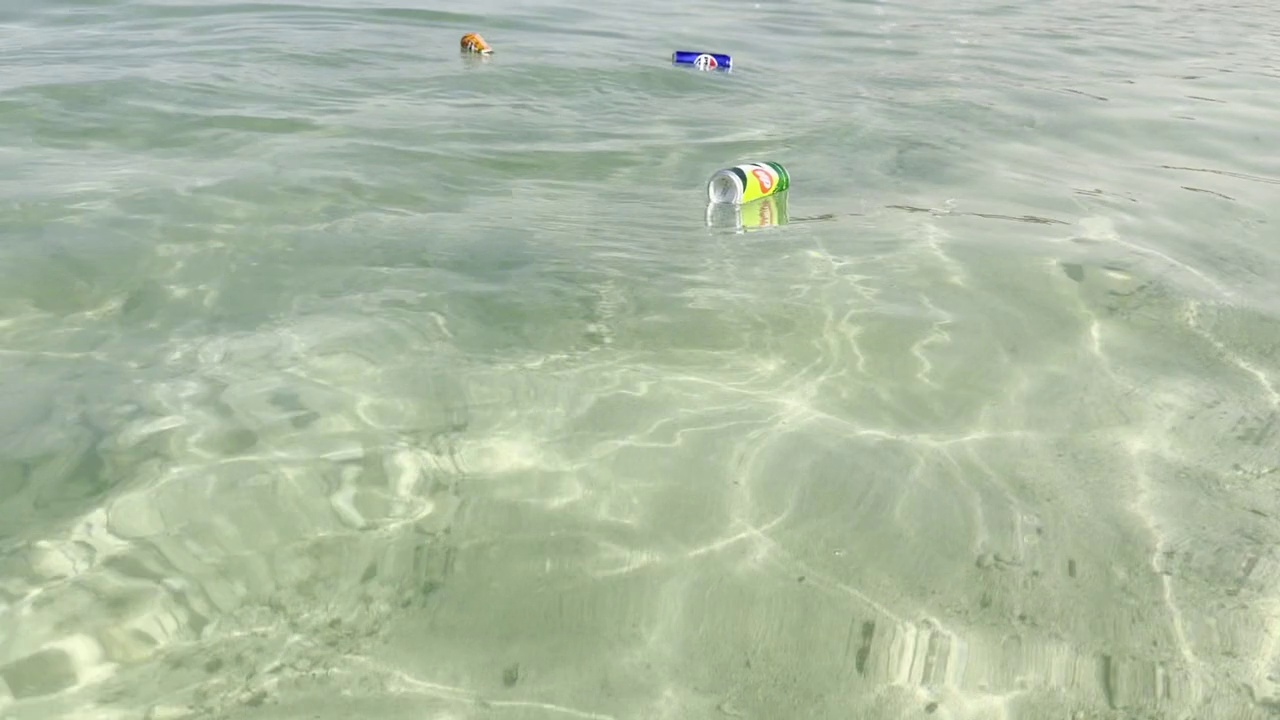debris: (702, 147, 794, 214), (668, 40, 738, 82), (455, 28, 502, 66)
